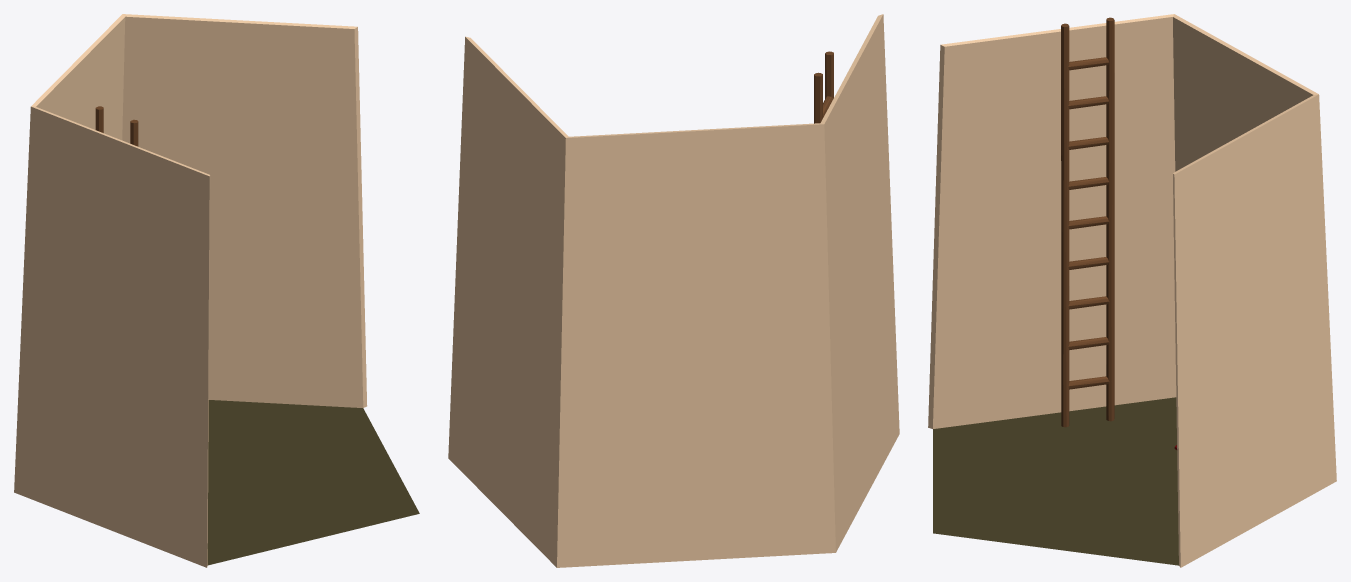
File: stage_2.fbx
The picture shows the model from 3 angles, left to right: view 1: azimuth 30°, elevation 25°; view 2: azimuth 150°, elevation 25°; view 3: azimuth 270°, elevation 25°; orthographic projection. The views are drawn at different scales.
Visible parts, largest first — view 1: Plane; view 2: Plane, Cylinder.001; view 3: Plane, Cylinder.001.
Boxes of the visible parts, bbox=[...] form: Plane: bbox=[14, 14, 419, 567]; Plane: bbox=[448, 14, 899, 567]; Cylinder.001: bbox=[814, 51, 833, 123]; Plane: bbox=[928, 14, 1336, 567]; Cylinder.001: bbox=[1061, 17, 1114, 427].
Size of the model in its own units: 990 by 1071 by 987.
